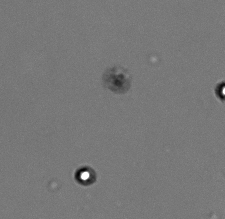Dead Cell: (107, 69, 129, 94)
Living Cell: (75, 167, 95, 186)
